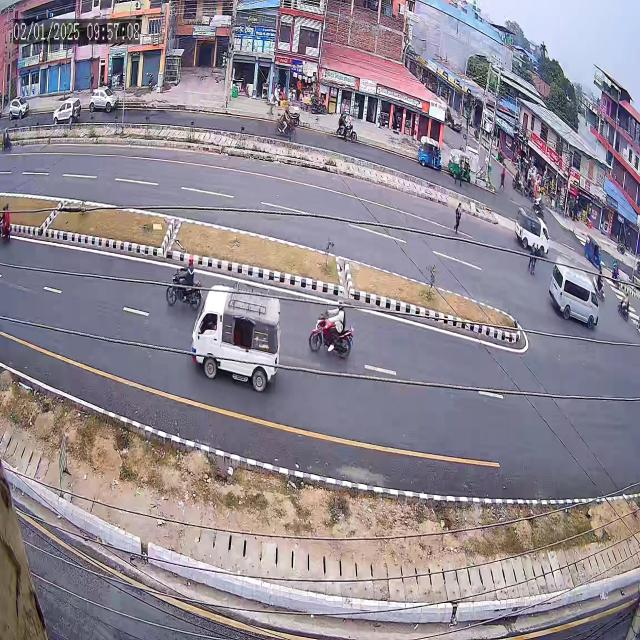motorcycle: (305, 289, 359, 381), (156, 245, 204, 319)
van: (186, 279, 291, 390), (507, 204, 555, 262)
